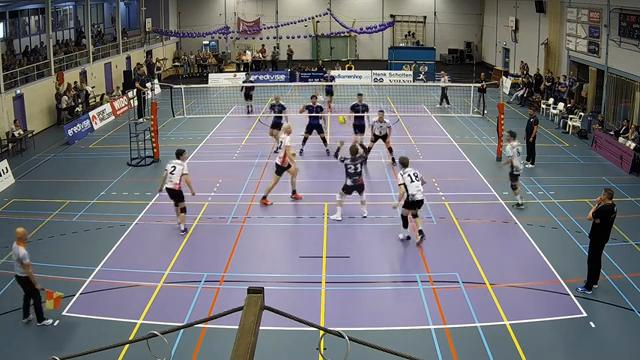Player: (260, 124, 301, 204), (158, 149, 194, 234), (330, 141, 366, 220), (393, 156, 424, 245), (299, 95, 329, 155), (367, 110, 395, 165), (504, 130, 523, 208), (268, 96, 287, 152), (350, 93, 369, 143), (240, 72, 254, 113), (323, 70, 334, 111)
Receive: (327, 131, 375, 226)
ball: (337, 114, 347, 126)
